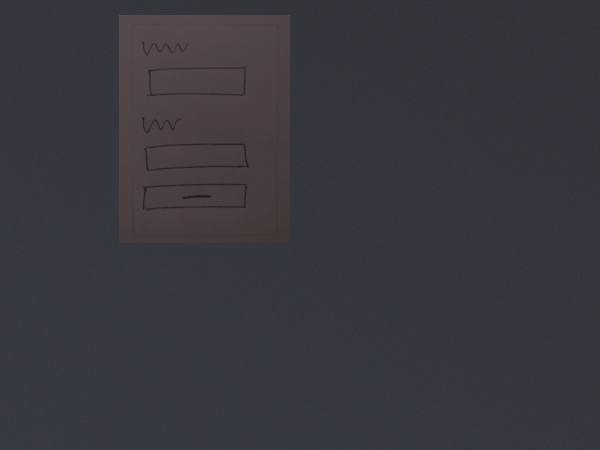button: (139, 182, 250, 214)
text: (139, 37, 190, 58), (138, 113, 184, 135)
text_input: (142, 64, 250, 101), (140, 142, 252, 174)
